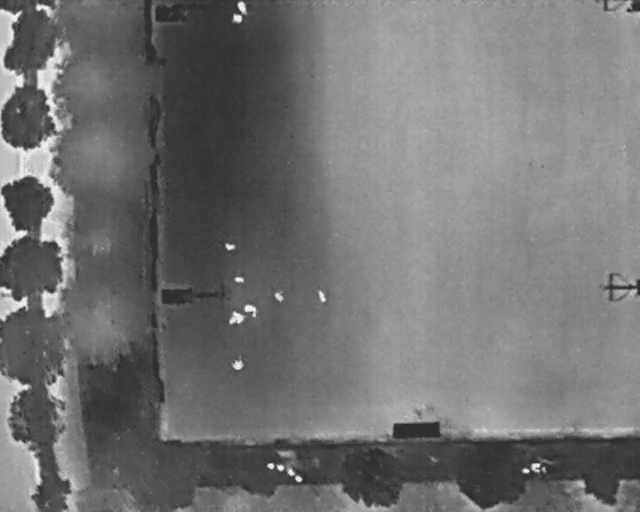Person: (229, 307, 248, 326), (236, 0, 251, 18), (271, 289, 287, 304), (242, 304, 258, 319), (314, 288, 328, 305), (231, 357, 245, 371), (225, 314, 238, 328), (231, 13, 244, 25), (225, 240, 237, 252), (233, 277, 244, 283)
